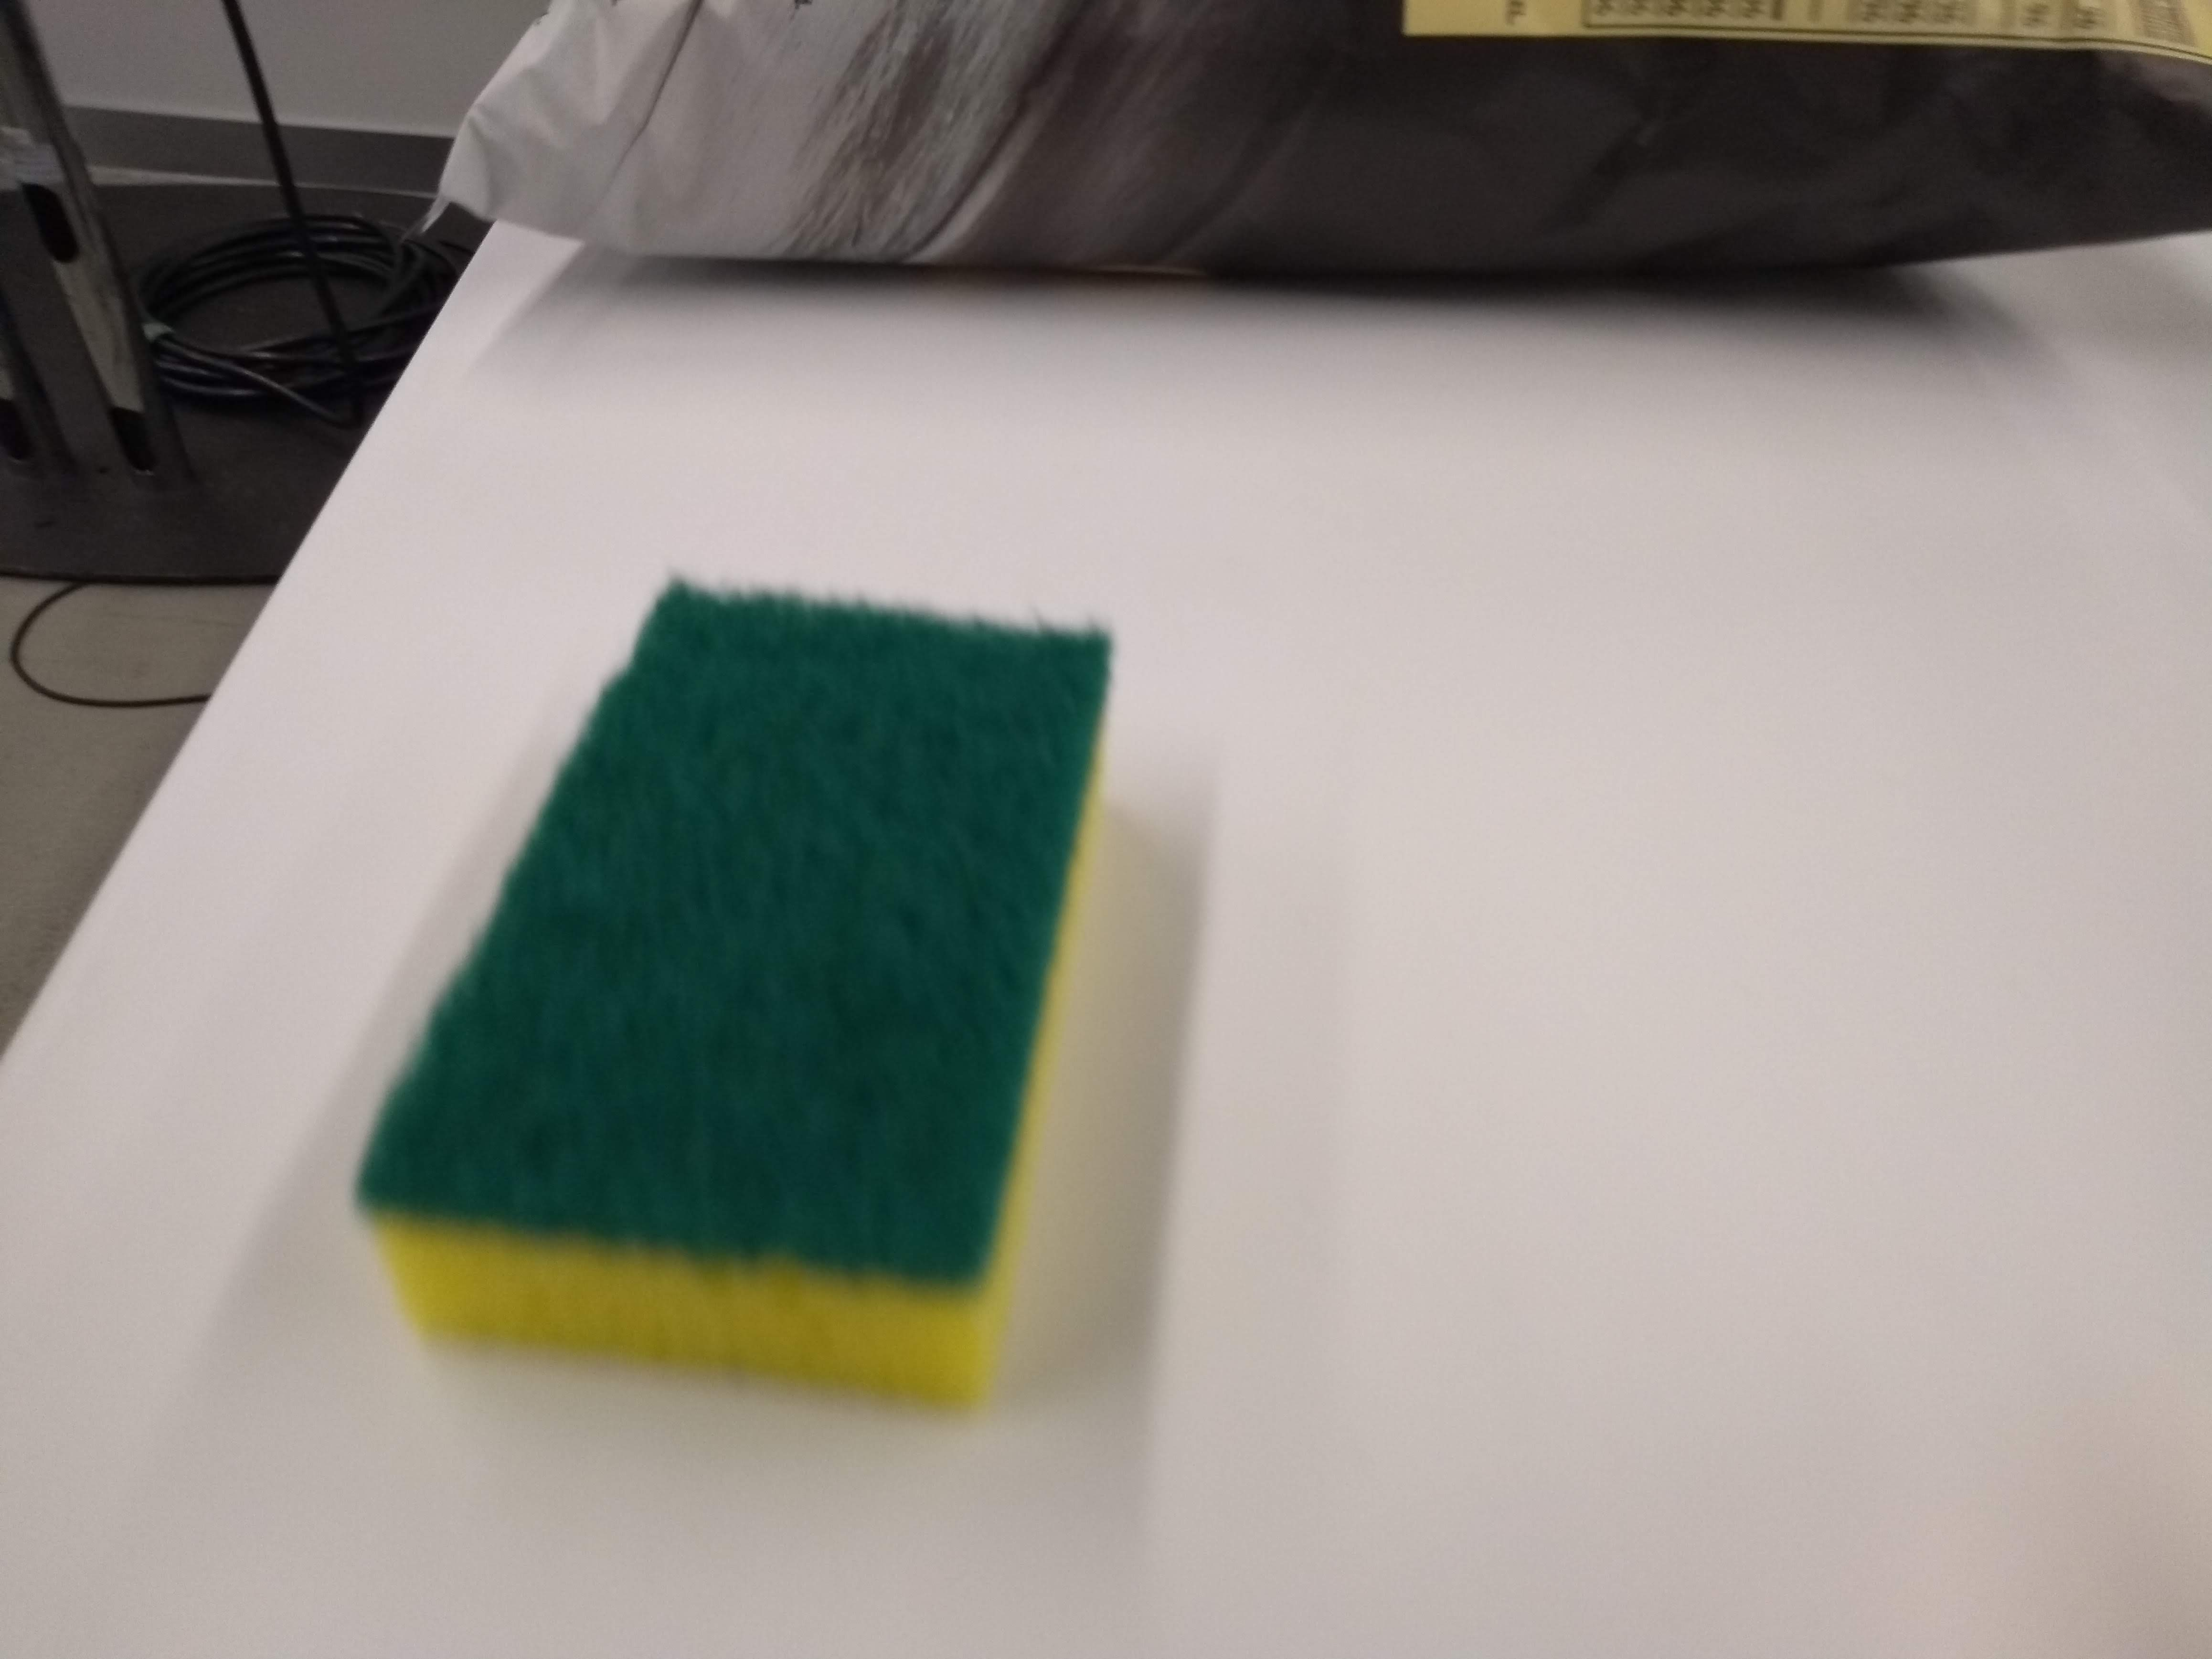scrubby: (352, 565, 1137, 1436)
